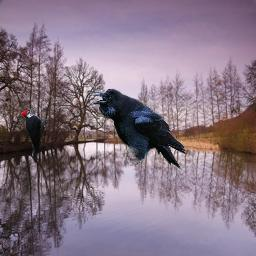Crow: (91, 88, 186, 171)
Woodpecker: (20, 107, 48, 158)
